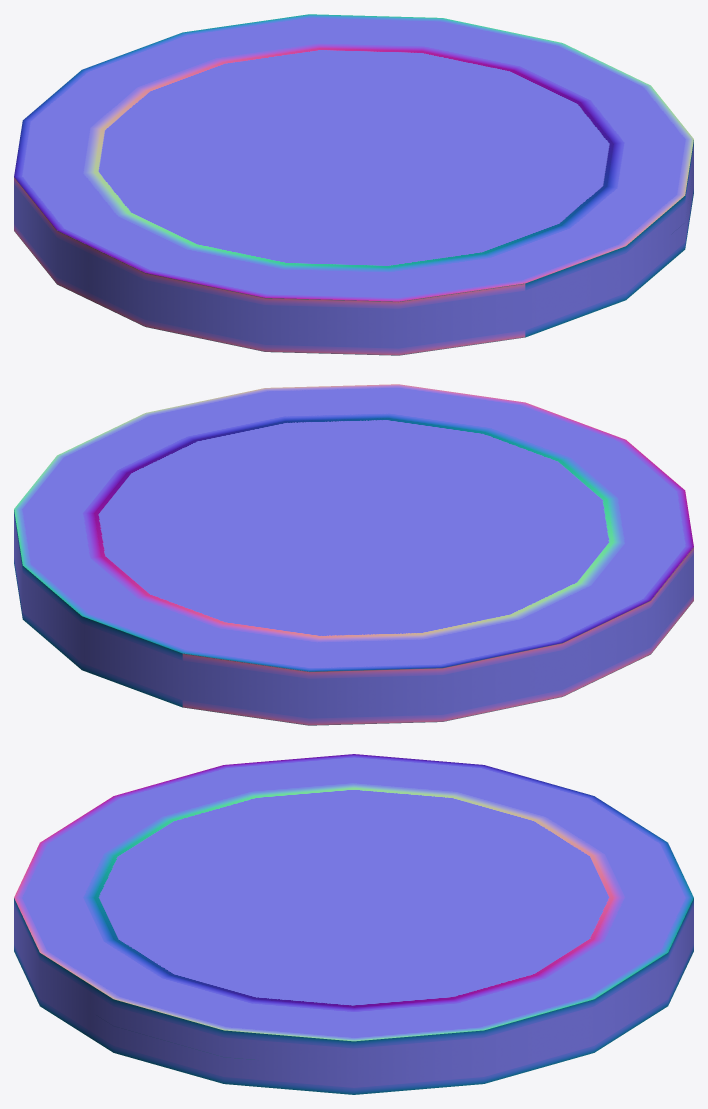
The model's file is Coin.fbx.
3 views of the same model, one above another, from view 1: azimuth 30°, elevation 25°; view 2: azimuth 150°, elevation 25°; view 3: azimuth 270°, elevation 25° (orthographic).
Parts seen in each view (by area): view 1: Coin; view 2: Coin; view 3: Coin.
Part boxes in pixels (bbox=[...]): Coin: bbox=[14, 14, 693, 355]; Coin: bbox=[14, 384, 693, 725]; Coin: bbox=[14, 754, 693, 1094].
Size of the model in its own units: 2 by 0.1739 by 2.
